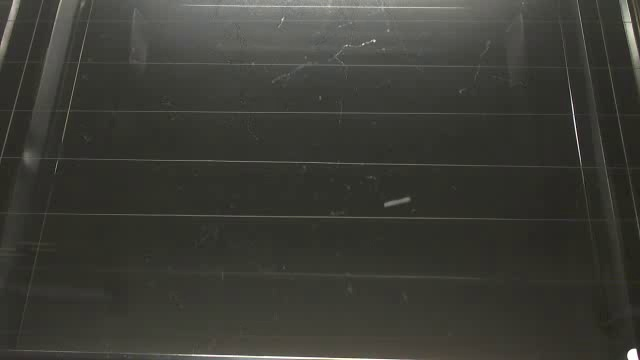Alfa: (382, 195, 414, 211)
